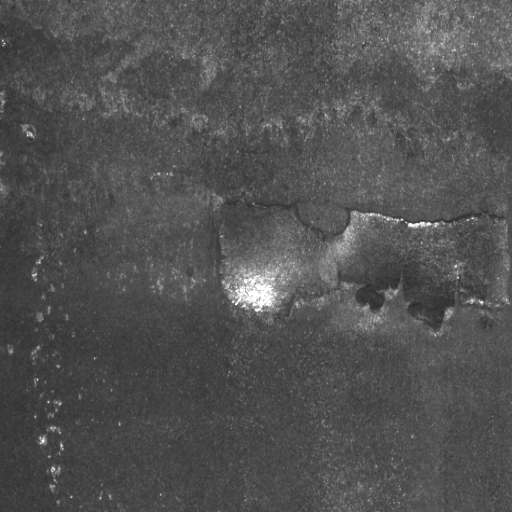qiaopi: (213, 195, 512, 331)
